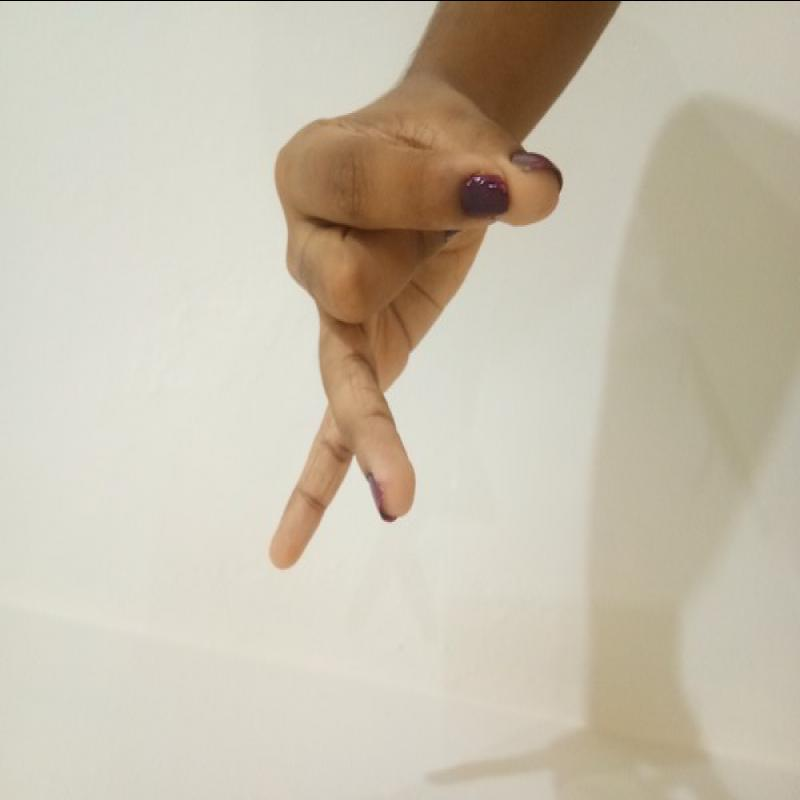Katakam: (226, 89, 587, 586)
